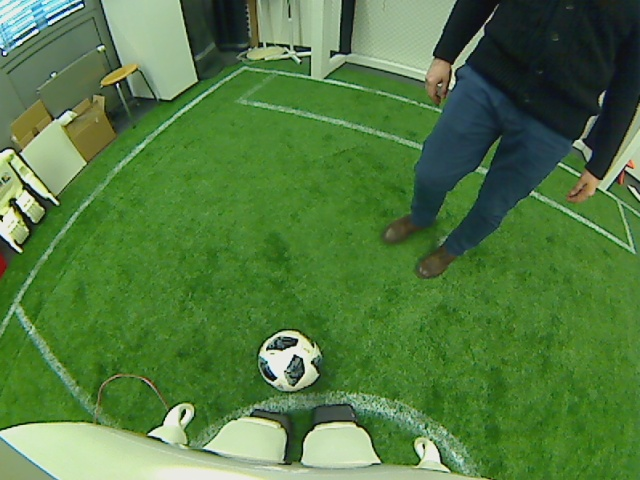ball: (255, 325, 323, 393)
